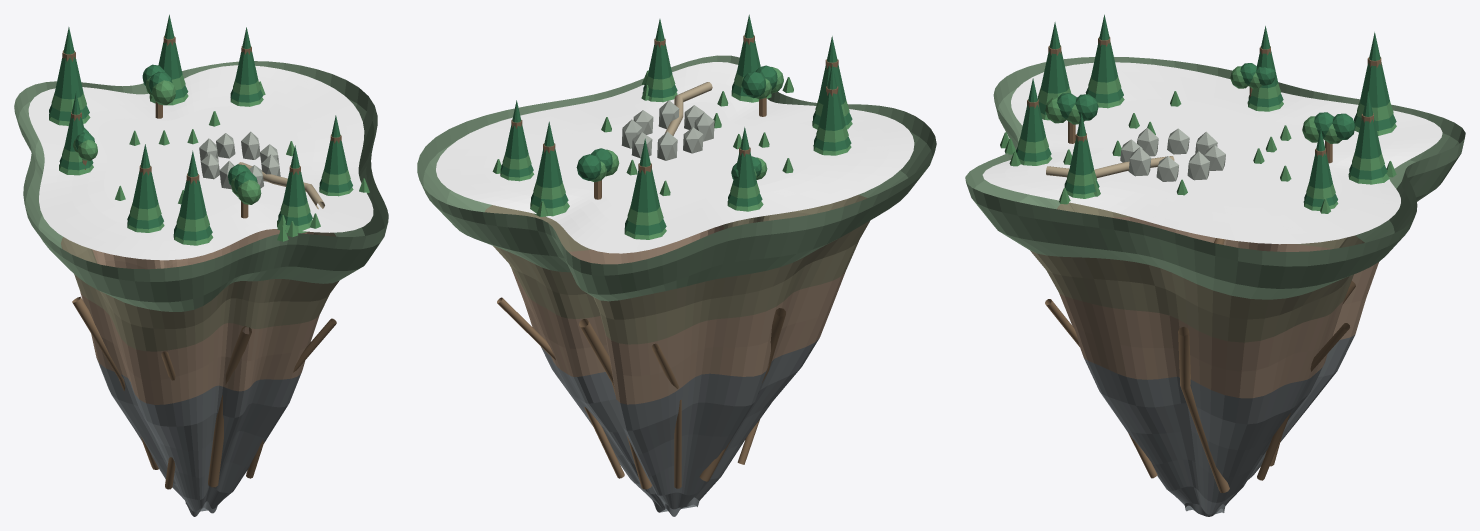
The model's file is FI-014-Emberpine-Knoll.glb.
3 renders of one model, left to right at view 1: azimuth 30°, elevation 25°; view 2: azimuth 150°, elevation 25°; view 3: azimuth 270°, elevation 25°, orthographic. The views are drawn at different scales.
Visible parts, largest first — view 1: FI-014_StratifiedFloatingCliff, FI-014_BuildableTop, FI-014_HangingRoot_04, Whisperpine_03_Bough_03, Whisperpine_00_Bough_03, Whisperpine_02_Bough_03, FI-014_HangingRoot_02, Whisperpine_01_Bough_03, Whisperpine_04_Bough_03, Whisperpine_06_Bough_03, FI-014_HangingRoot_05, Whisperpine_05_Bough_03 (+6 smaller); view 2: FI-014_StratifiedFloatingCliff, FI-014_BuildableTop, FI-014_HangingRoot_07, Whisperpine_03_Bough_03, FI-014_HangingRoot_00, FI-014_HangingRoot_01, Whisperpine_04_Bough_03, Whisperpine_02_Bough_03, Whisperpine_06_Bough_03, FI-014_HangingRoot_02, Whisperpine_07_Bough_03, Whisperpine_01_Bough_03 (+3 smaller); view 3: FI-014_StratifiedFloatingCliff, FI-014_BuildableTop, FI-014_HangingRoot_06, Whisperpine_03_Bough_03, Whisperpine_00_Bough_03, Whisperpine_02_Bough_03, Whisperpine_04_Bough_03, FI-014_HangingRoot_07, Whisperpine_01_Bough_03, Whisperpine_06_Bough_03, Whisperpine_05_Bough_03, FI-014_HangingRoot_05 (+1 smaller).
Boxes of the visible parts, box(x1,y1,x2,y2) form: FI-014_StratifiedFloatingCliff: box(14, 61, 388, 516); FI-014_BuildableTop: box(28, 65, 373, 260); FI-014_HangingRoot_04: box(208, 326, 251, 487); Whisperpine_03_Bough_03: box(55, 27, 83, 99); Whisperpine_00_Bough_03: box(179, 150, 206, 219); Whisperpine_02_Bough_03: box(133, 144, 158, 209); FI-014_HangingRoot_02: box(72, 296, 158, 469); Whisperpine_01_Bough_03: box(283, 145, 307, 206); Whisperpine_04_Bough_03: box(158, 14, 182, 79); Whisperpine_06_Bough_03: box(324, 115, 347, 174); FI-014_HangingRoot_05: box(246, 318, 336, 478); Whisperpine_05_Bough_03: box(235, 27, 258, 84); FI-014_StratifiedFloatingCliff: box(417, 55, 936, 516); FI-014_BuildableTop: box(436, 62, 914, 253); FI-014_HangingRoot_07: box(497, 297, 624, 478); Whisperpine_03_Bough_03: box(631, 138, 659, 212); FI-014_HangingRoot_00: box(579, 319, 651, 489); FI-014_HangingRoot_01: box(651, 343, 681, 488); Whisperpine_04_Bough_03: box(536, 121, 562, 187); Whisperpine_02_Bough_03: box(819, 64, 845, 130); Whisperpine_06_Bough_03: box(648, 19, 672, 79); FI-014_HangingRoot_02: box(699, 308, 785, 481); Whisperpine_07_Bough_03: box(733, 127, 756, 187); Whisperpine_01_Bough_03: box(737, 14, 760, 76); FI-014_StratifiedFloatingCliff: box(965, 57, 1465, 516); FI-014_BuildableTop: box(982, 62, 1442, 244); FI-014_HangingRoot_06: box(1178, 327, 1229, 492); Whisperpine_03_Bough_03: box(1360, 32, 1389, 107); Whisperpine_00_Bough_03: box(1041, 22, 1069, 93); Whisperpine_02_Bough_03: box(1091, 14, 1118, 82); Whisperpine_04_Bough_03: box(1355, 91, 1381, 158); FI-014_HangingRoot_07: box(1257, 323, 1349, 480); Whisperpine_01_Bough_03: box(1020, 78, 1045, 142); Whisperpine_06_Bough_03: box(1069, 113, 1093, 175); Whisperpine_05_Bough_03: box(1309, 128, 1332, 188); FI-014_HangingRoot_05: box(1045, 299, 1157, 478).
Bounding box in the file's own units: 11.6 × 12.45 × 12.46.
